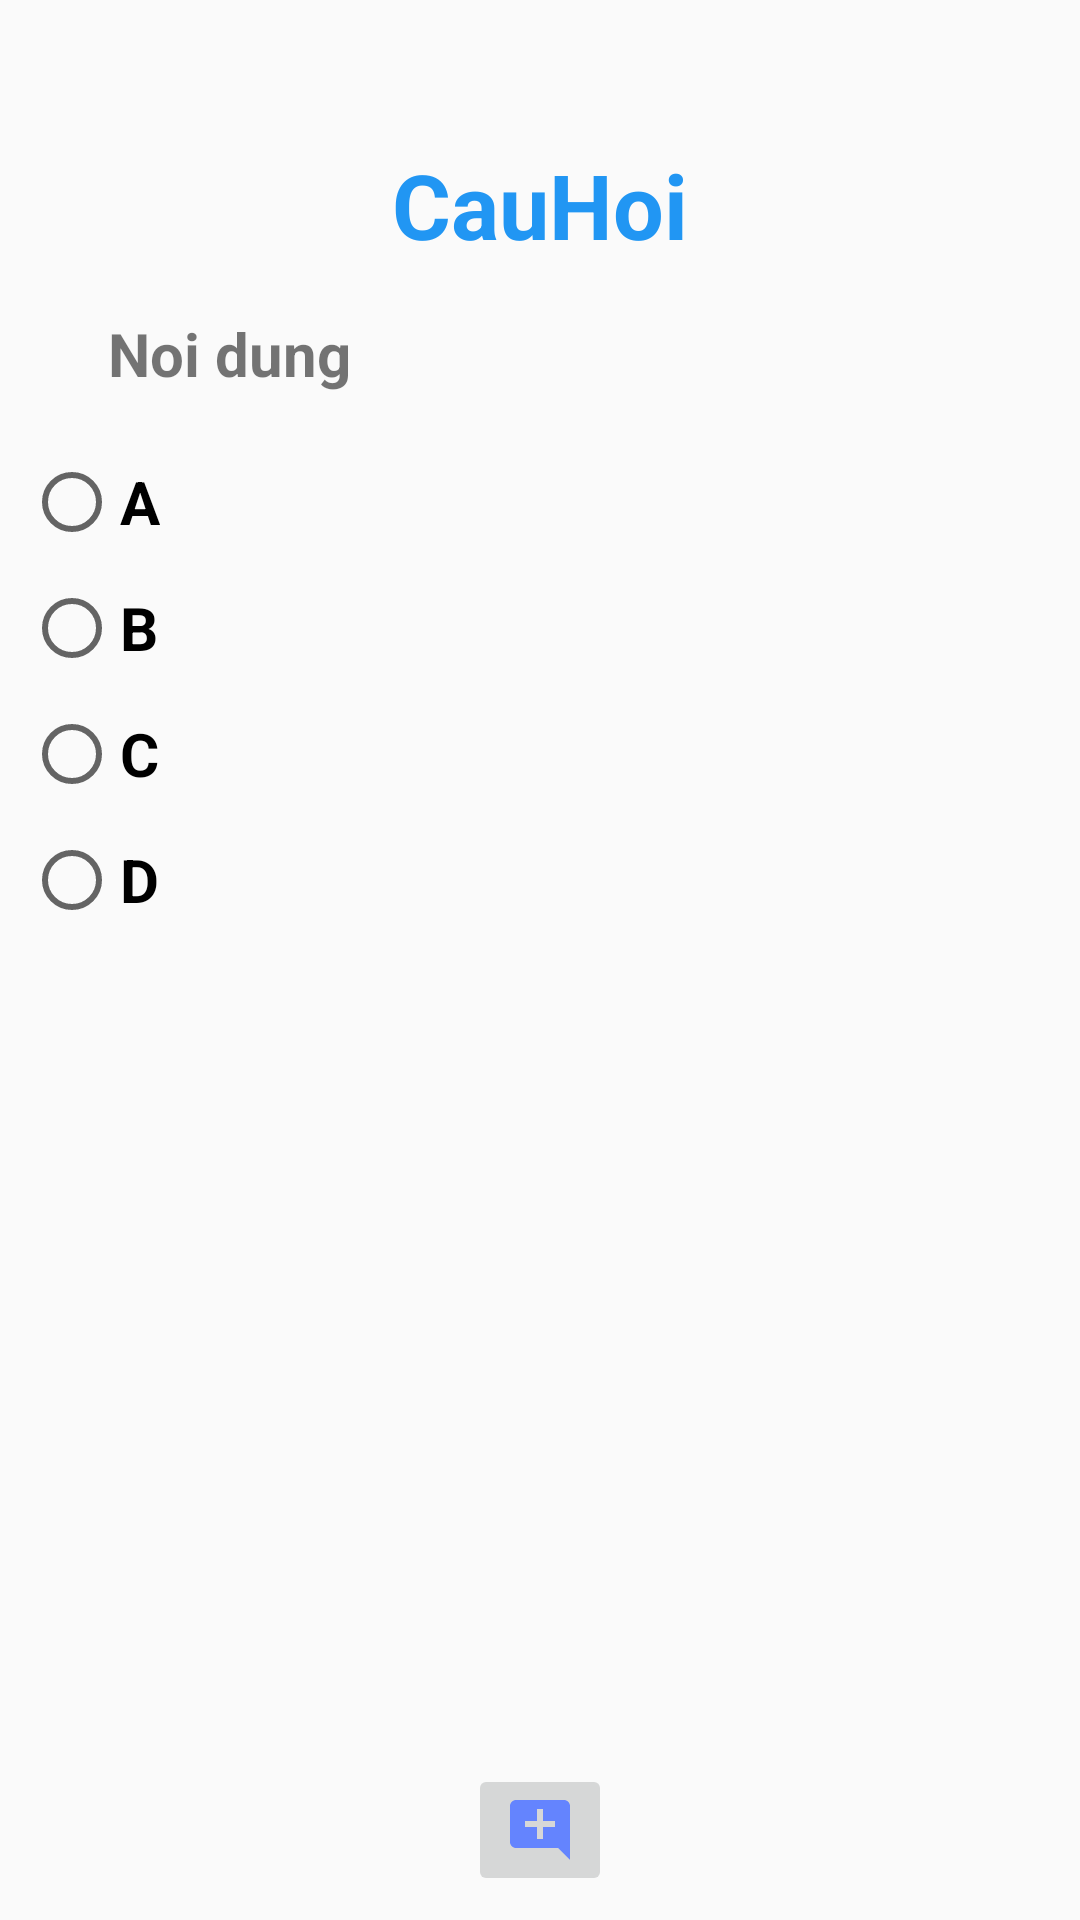

Where to tap for icons on this 1080px x 1920px app screen, as (x,y):
comment: (540,1830)
